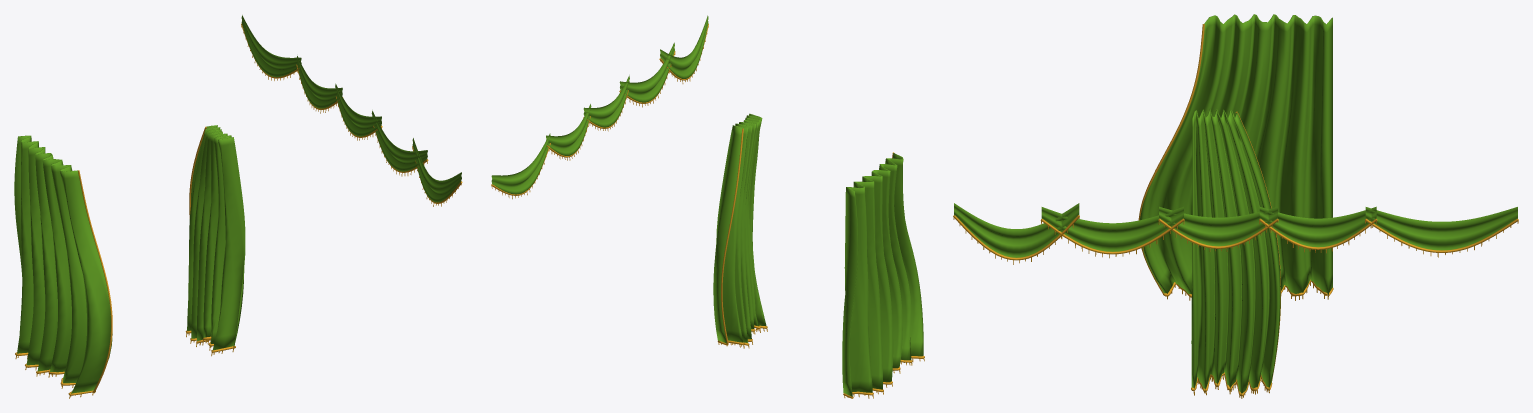
File: 03_Curtains_low.fbx
The picture shows the model from 3 angles, left to right: view 1: azimuth 30°, elevation 25°; view 2: azimuth 150°, elevation 25°; view 3: azimuth 270°, elevation 25°; orthographic projection. The views are drawn at different scales.
Visible parts, largest first — view 1: CurtainLeft_low, CurtainRight_low, Valance_low; view 2: CurtainLeft_low, CurtainRight_low, Valance_low; view 3: CurtainLeft_low, CurtainRight_low, Valance_low.
Part boxes in pixels (x1,y1,x2,y2): CurtainLeft_low: [14, 135, 112, 398]; CurtainRight_low: [185, 125, 245, 356]; Valance_low: [241, 15, 462, 206]; CurtainLeft_low: [842, 152, 924, 398]; CurtainRight_low: [713, 113, 767, 348]; Valance_low: [491, 15, 708, 199]; CurtainLeft_low: [1138, 14, 1333, 300]; CurtainRight_low: [1191, 109, 1280, 398]; Valance_low: [953, 203, 1518, 264].
Bounding box in the file's own units: 898 × 1112 × 611.
